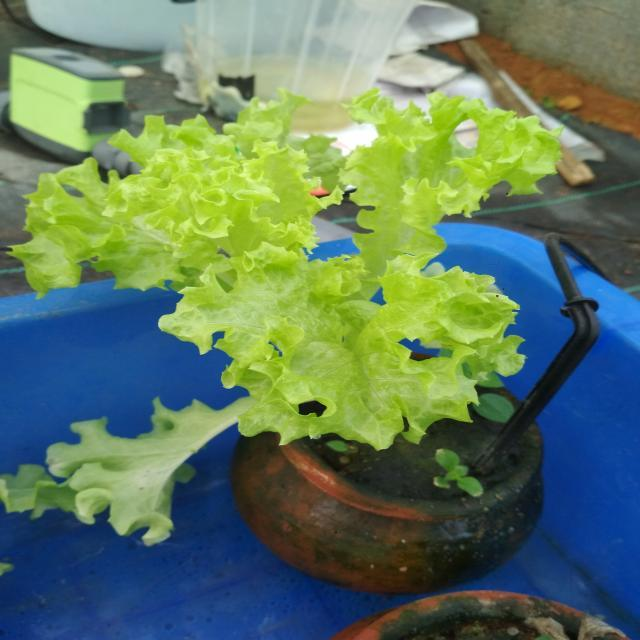Lettuce-Not-Ready-to-Harvest: (24, 79, 559, 558)
